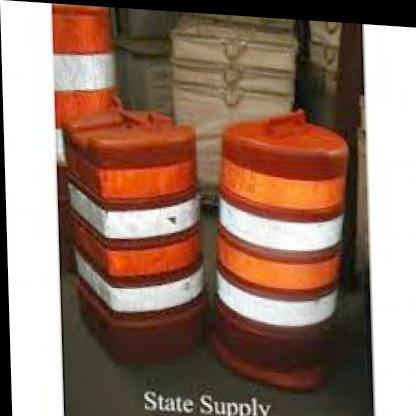obstacle: (211, 103, 343, 382), (62, 108, 211, 352)
